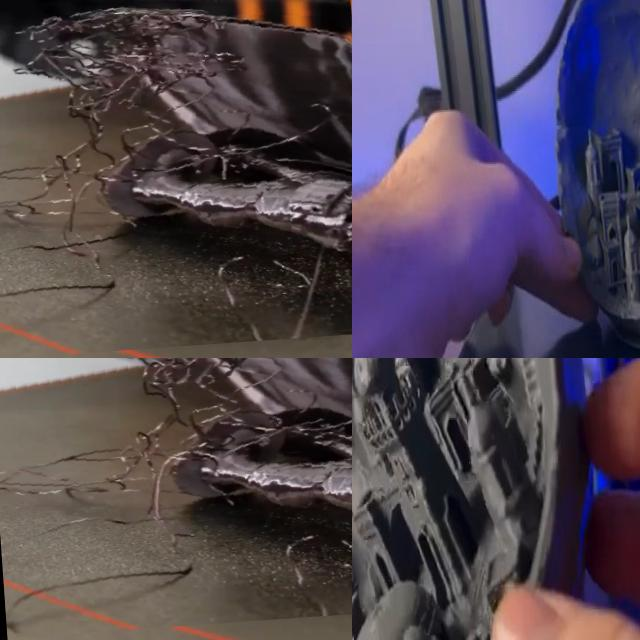spaghetti: (0, 0, 352, 358), (0, 358, 352, 638)
